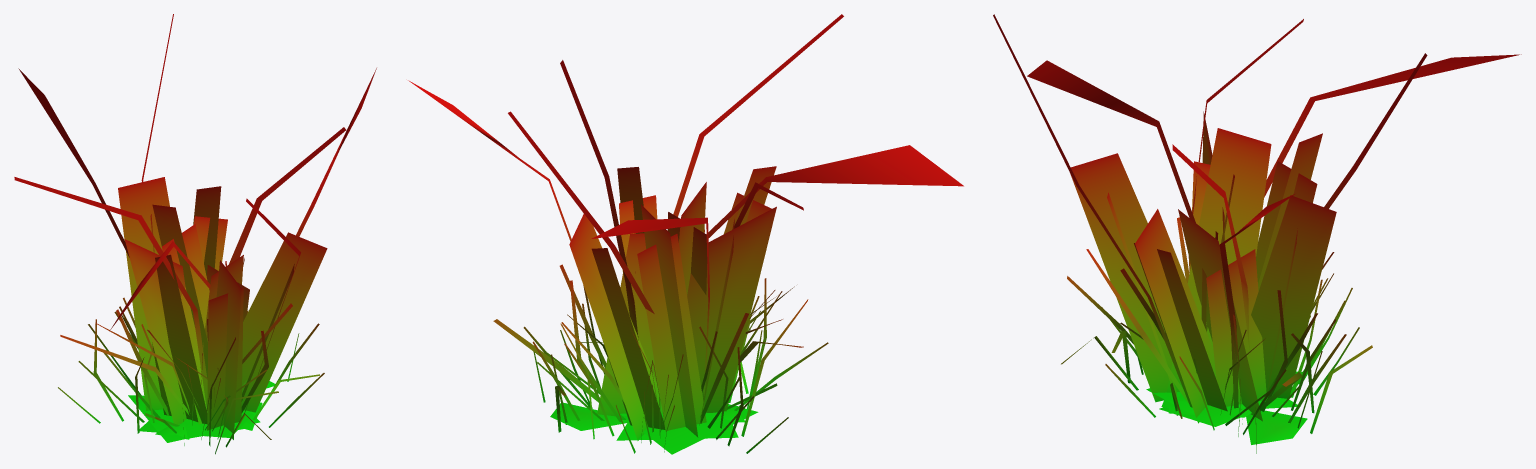
Rendered from Var9_LOD3.fbx.
3 views of the same model, side by side, from view 1: azimuth 30°, elevation 25°; view 2: azimuth 150°, elevation 25°; view 3: azimuth 270°, elevation 25° (orthographic). The views are drawn at different scales.
Parts seen in each view (by area): view 1: _6734_Var9_LOD3; view 2: _6734_Var9_LOD3; view 3: _6734_Var9_LOD3.
Part boxes in pixels (bbox=[...]): _6734_Var9_LOD3: bbox=[14, 14, 376, 454]; _6734_Var9_LOD3: bbox=[408, 14, 963, 454]; _6734_Var9_LOD3: bbox=[993, 14, 1521, 453].
Size of the model in its own units: 26.44 by 21.52 by 27.09.
